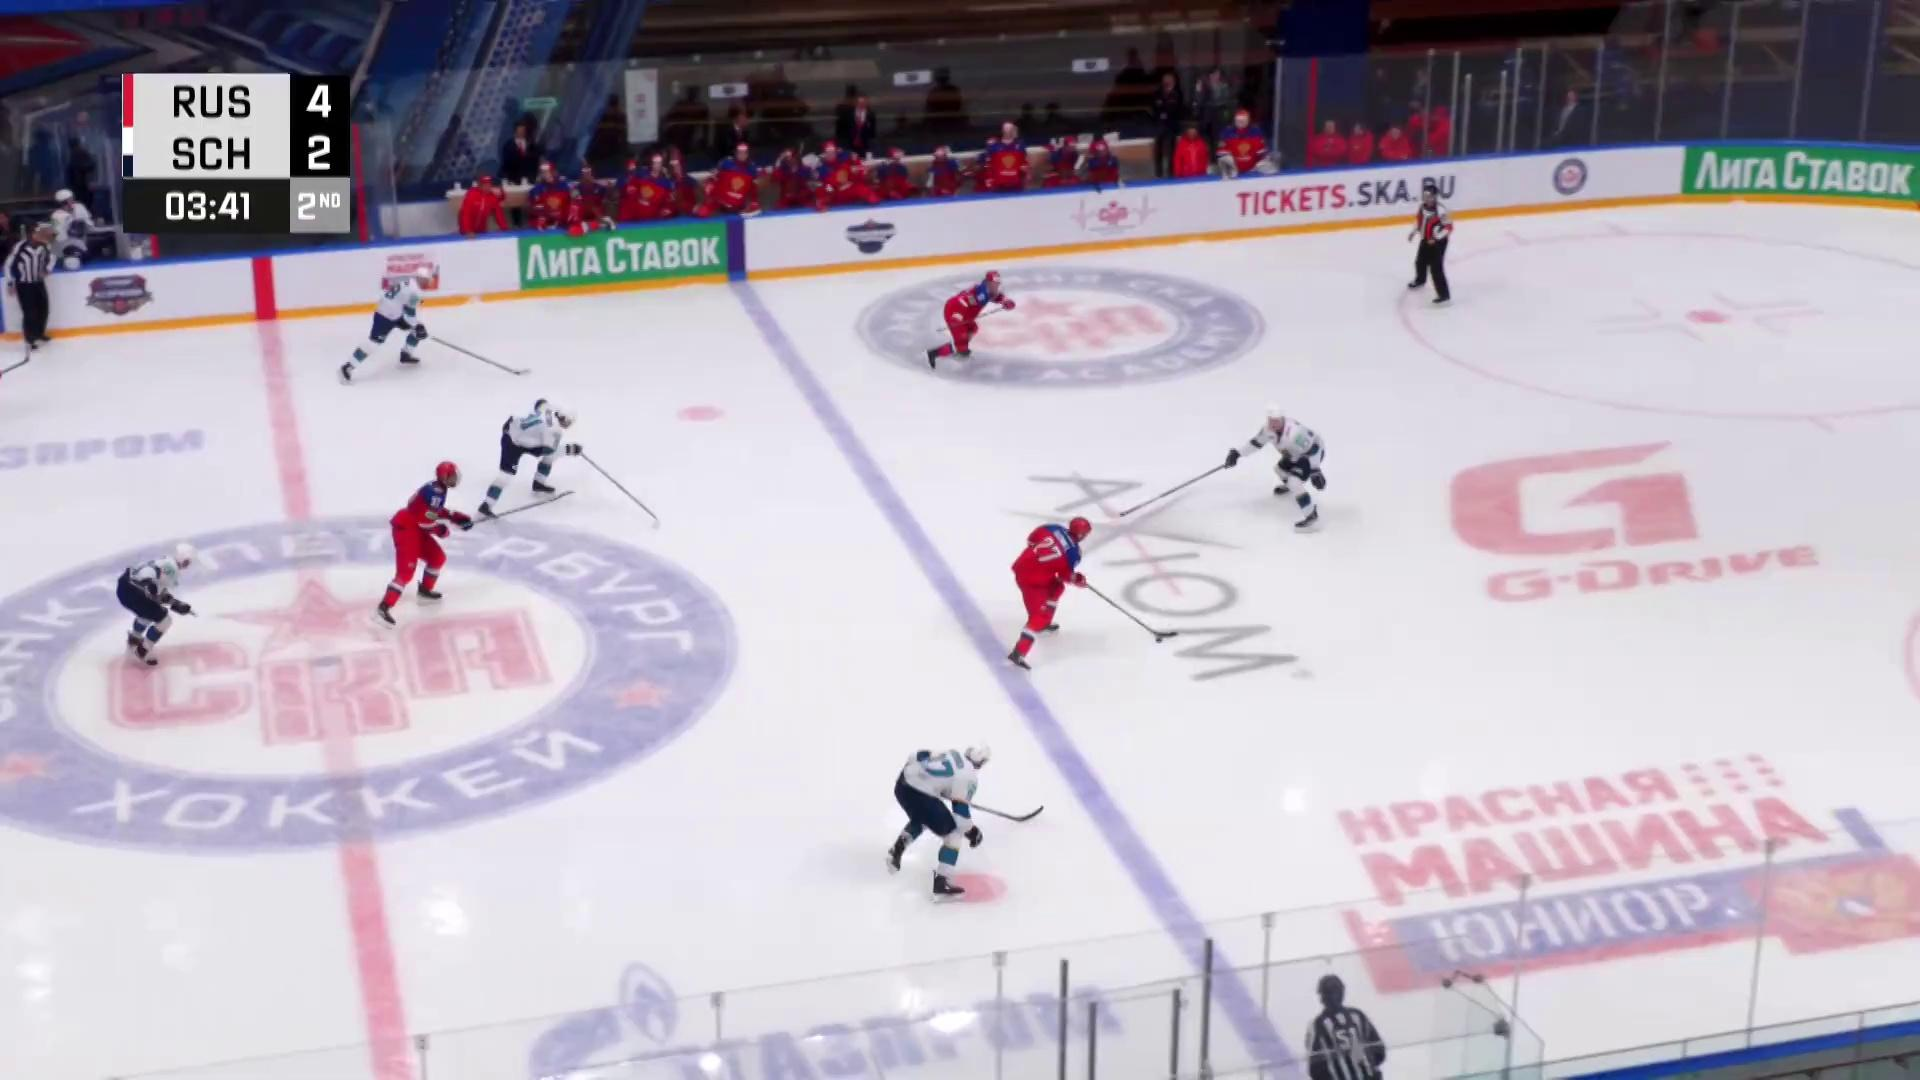ball: (1155, 638, 1163, 644)
